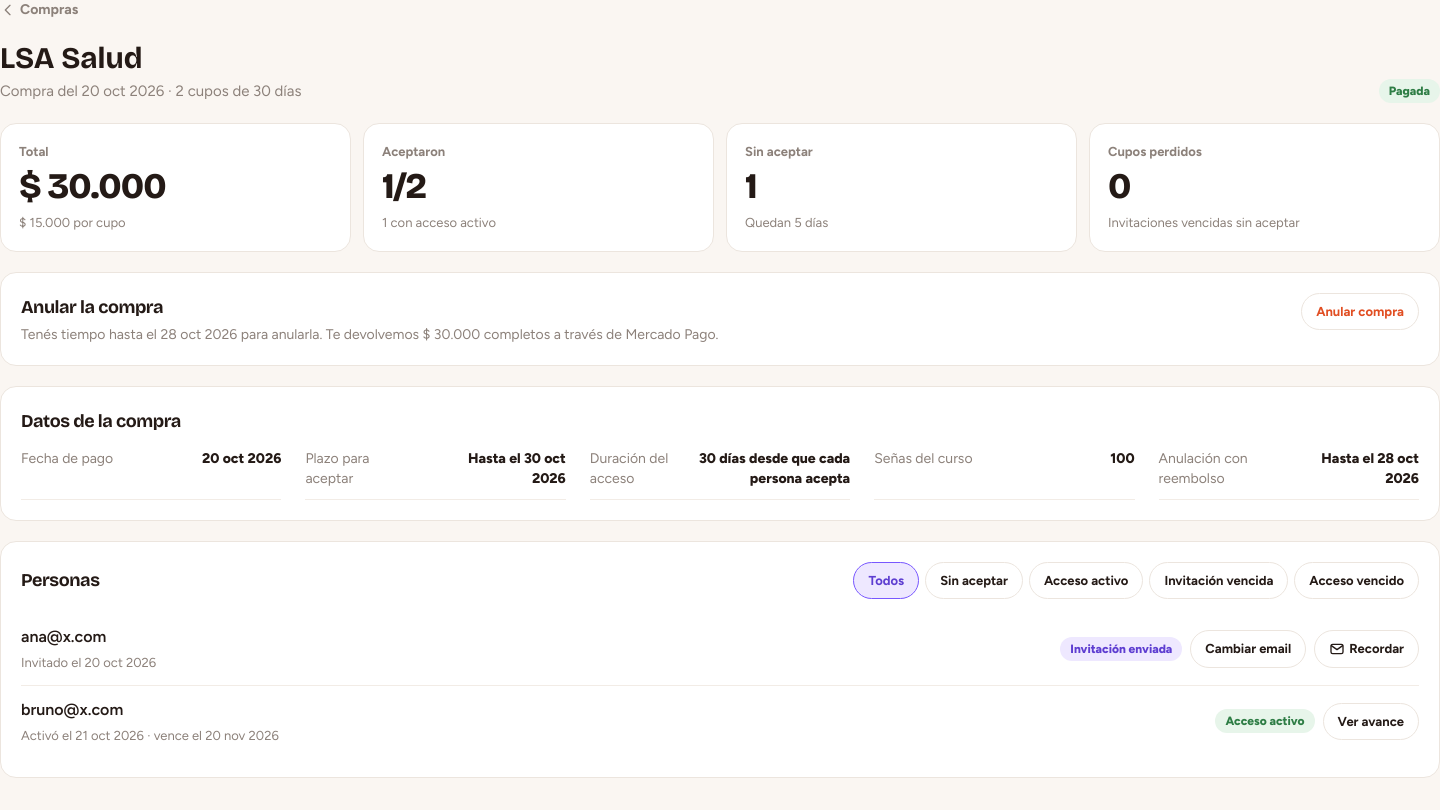
Test: PurchaseDetailPage › lets the admin cancel within the withdrawal period, spelling out what happens
The width and height of the screenshot is (1440, 810).
Expected: the heading "Anular la compra" is shown, [21,296,163,318]
Click the button "Anular compra". click: (1360, 311)
box: [1301,292,1419,330]
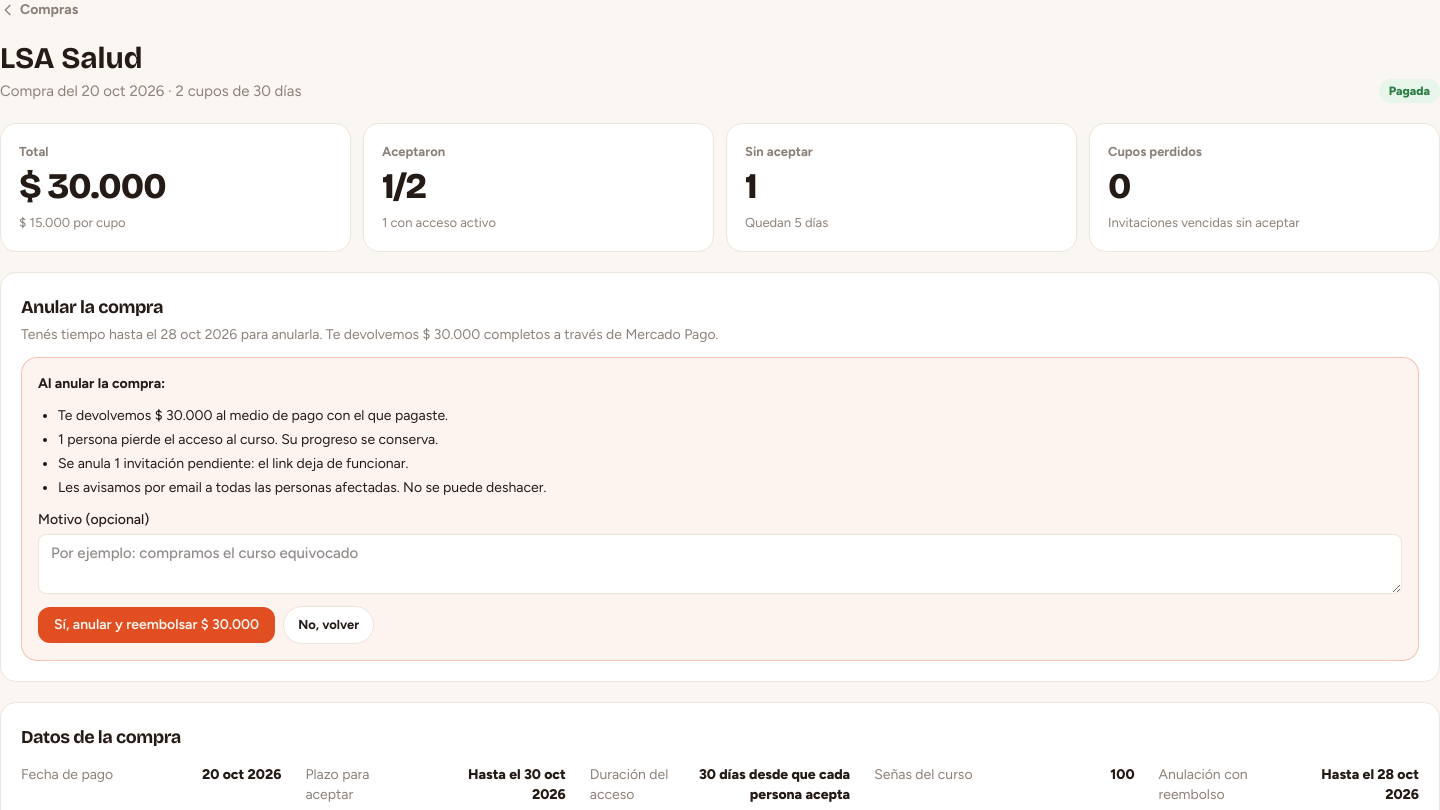
Expected: the list item "1 persona pierde el acceso al curso. Su progreso se conserva." is shown, [58,430,438,448]
Expected: the list item "Se anula 1 invitación pendiente: el link deja de funcionar." is shown, [58,454,408,472]
Type "Compramos el curso equivocado" into the text box labelled "Motivo (opcional)". click: (720, 564)
box: [38,534,1402,594]
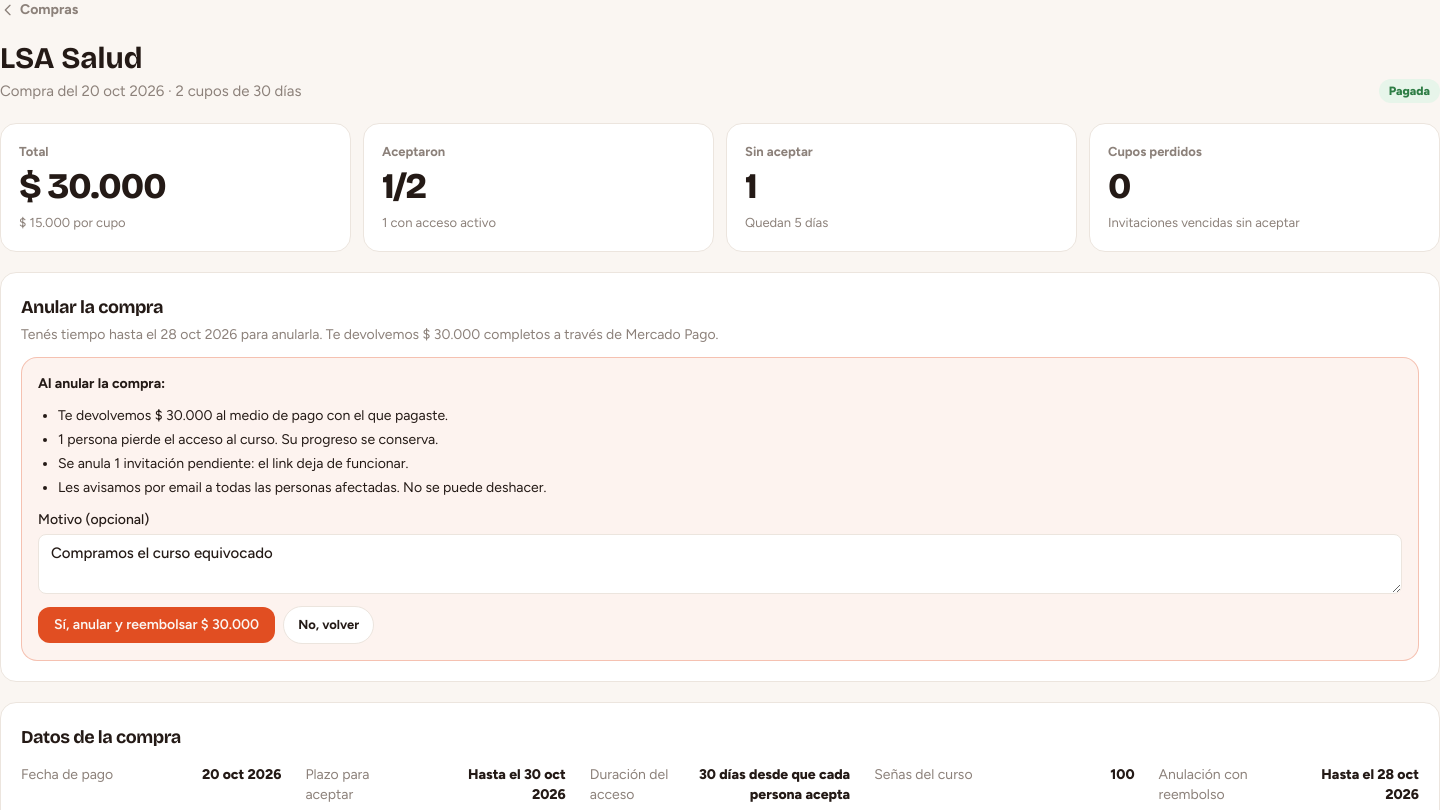
Click the button "Sí, anular y reembolsar $ 30.000". click: (157, 625)
box: [38,607,275,643]
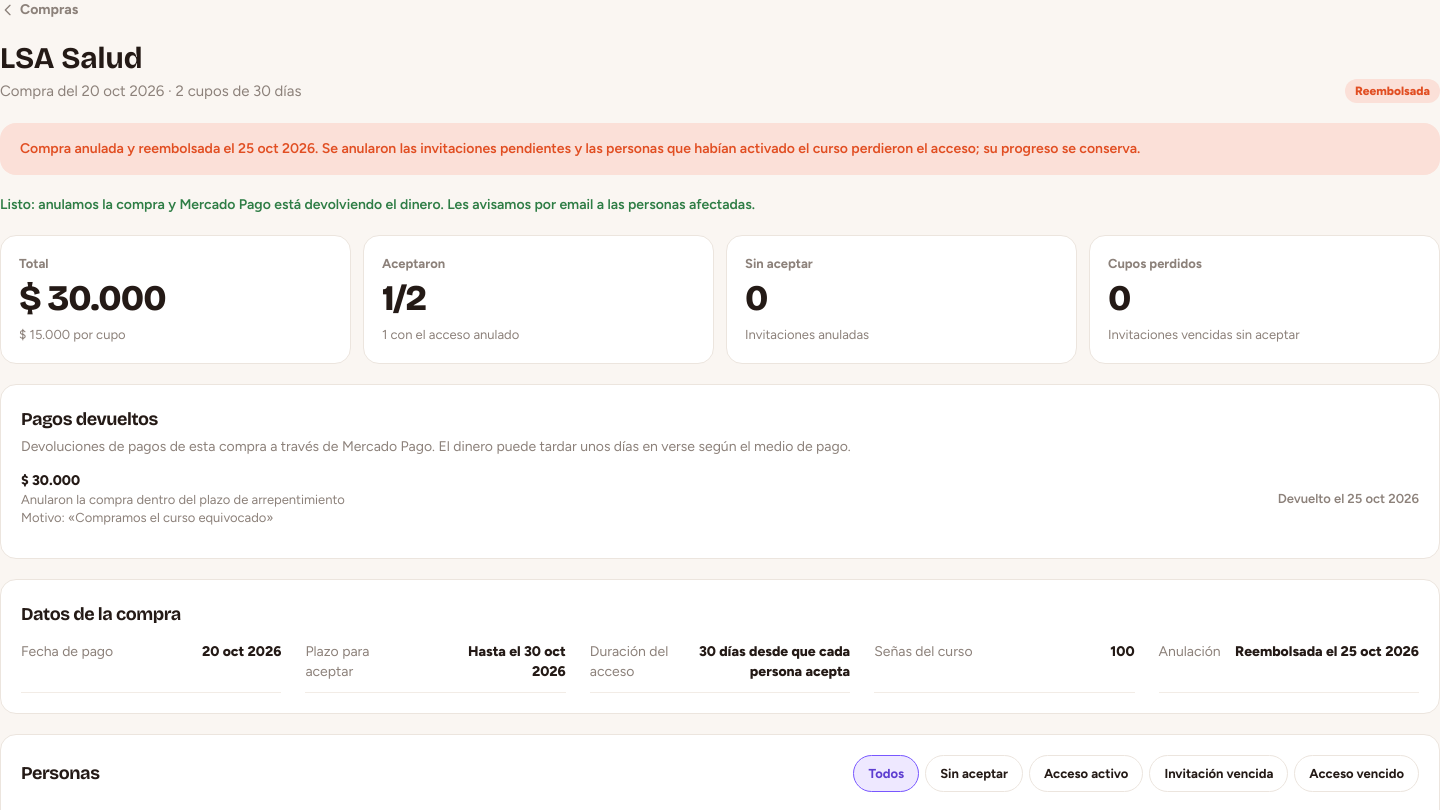
Expected: the text "Compra anulada y reembolsada el" is shown, [20,140,318,156]
Expected: the text "Listo: anulamos la compra" is shown, [0,196,755,212]
Expected: the text "1 con el acceso anulado" is shown, [382,327,519,342]
